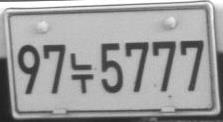5: (100, 41, 123, 94)
7: (179, 39, 204, 92), (151, 40, 176, 92), (124, 41, 149, 92), (42, 43, 66, 94)
9: (16, 43, 40, 95)
누: (69, 52, 94, 94)
